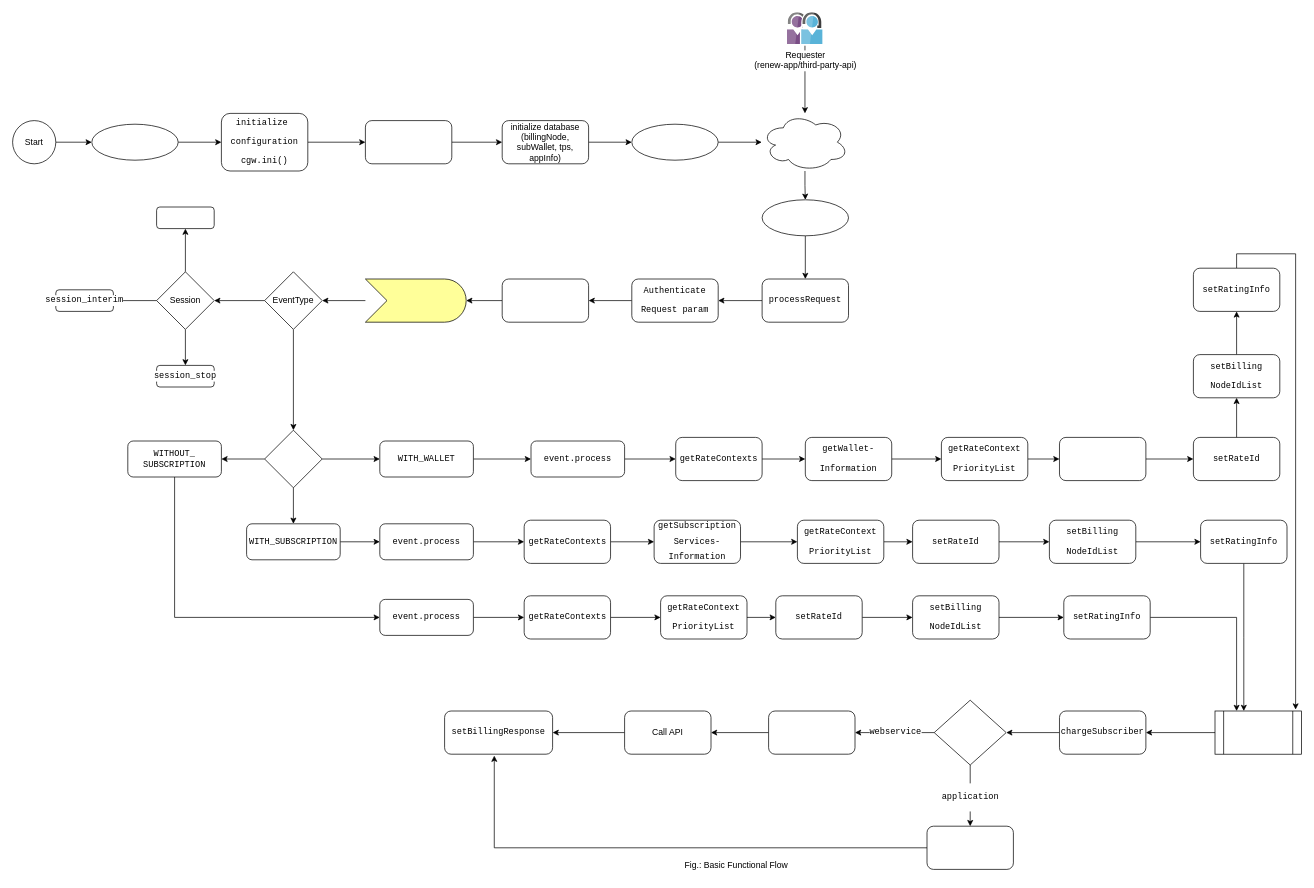
The diagram is 1314 pixels wide and 888 high, and some of its shapes have lost their labels. The centre of each missing label's shape, as x and y in pixels:
"addQueryParameter" goes at point 811,732.
"BillingInterface (billingNode)" goes at point 969,732.
"checkTPS" goes at point 545,300.
"getRateEngine (chargingType, walletOption )" goes at point 415,300.
"initialize database (timeslot, subgroup, ratemaster, ratepulse)" goes at point 408,142.
"Listening to a Port(3440)" goes at point 804,142.
"main" goes at point 134,141.
"RequestHandler" goes at point 805,217.
"SendReqTo INRequester" goes at point 969,847.
"session_start" goes at point 185,217.
"setBillingInterface" goes at point 1257,732.
"Specific" goes at point 293,458.
"start server-thread" goes at point 674,141.
"updateWallet Information" goes at point 1102,459.
